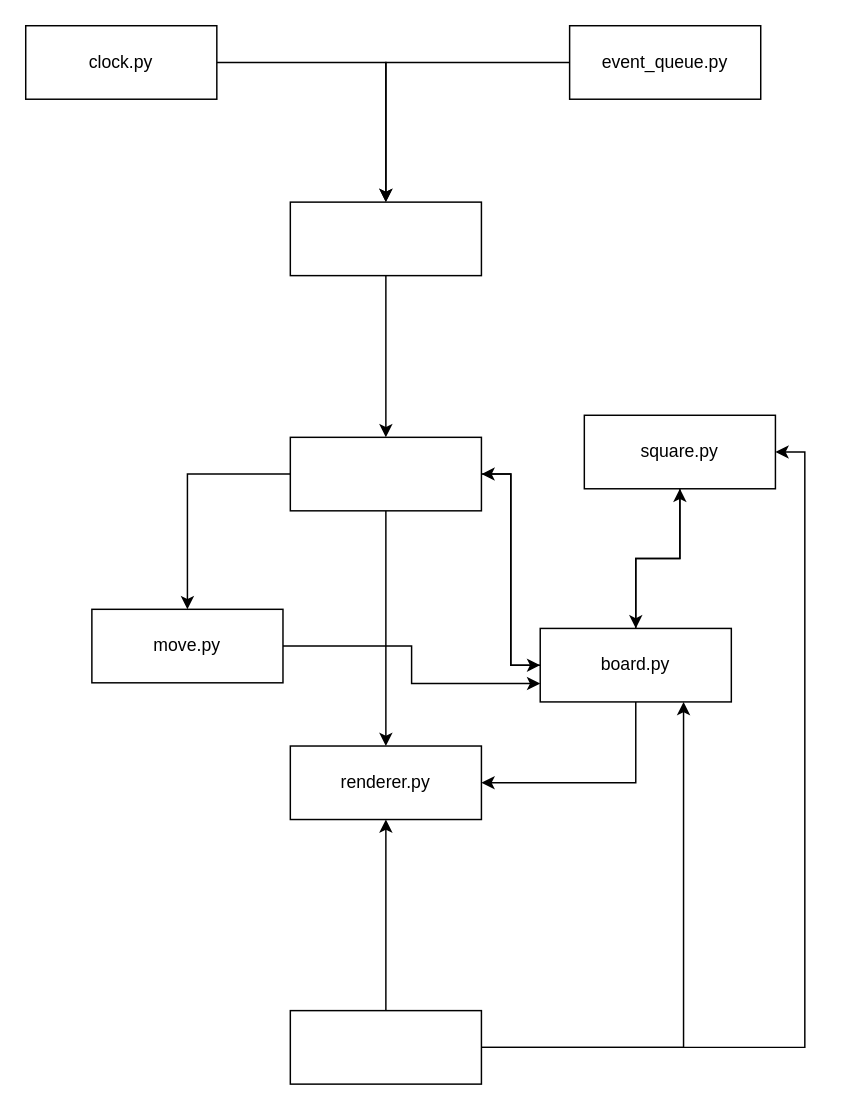
The diagram is 842 pixels wide and 1110 high, and some of its shapes have lost their labels. Here are the shapes that lost their labels. From the top down, the box of each, then its label:
(289, 201, 481, 276): main.py
(289, 436, 481, 511): game_loop.py
(289, 1009, 481, 1084): config.py
